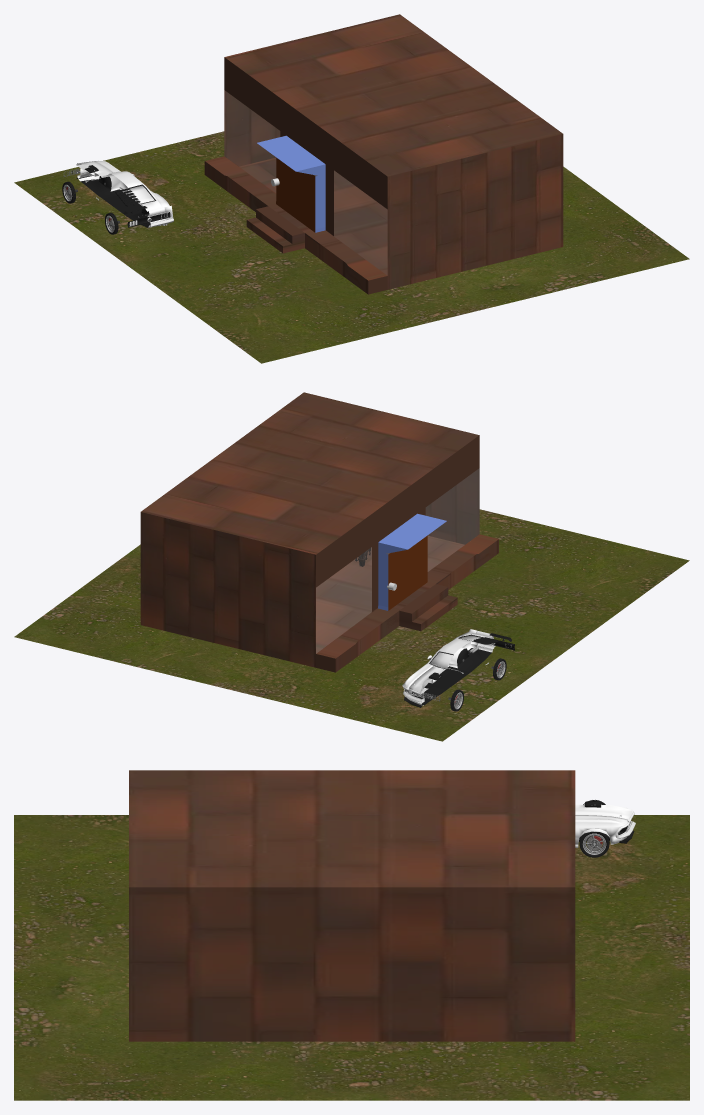
File: Home3d-transformed.glb
The picture shows the model from 3 angles, top to bottom: view 1: azimuth 30°, elevation 25°; view 2: azimuth 150°, elevation 25°; view 3: azimuth 270°, elevation 25°; orthographic projection. The views are drawn at different scales.
Parts seen in each view (by area): view 1: Cube, Grid, M_Mirrors; view 2: Cube, Grid, M_Mirrors; view 3: Cube, Grid, M_Mirrors.
Boxes of the visible parts, x1,y1,x2,y2 form: Cube: (204, 14, 563, 294); Grid: (14, 131, 689, 363); M_Mirrors: (63, 161, 173, 232); Cube: (140, 392, 498, 672); Grid: (14, 509, 689, 741); M_Mirrors: (402, 629, 514, 709); Cube: (129, 770, 575, 1041); Grid: (14, 815, 689, 1100); M_Mirrors: (575, 799, 635, 854).
Size of the model in its own units: 67.22 by 17.54 by 67.22.
14 materials, 14 textured.
